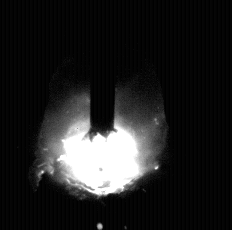arame: (91, 0, 116, 141)
poca: (38, 0, 166, 230)
